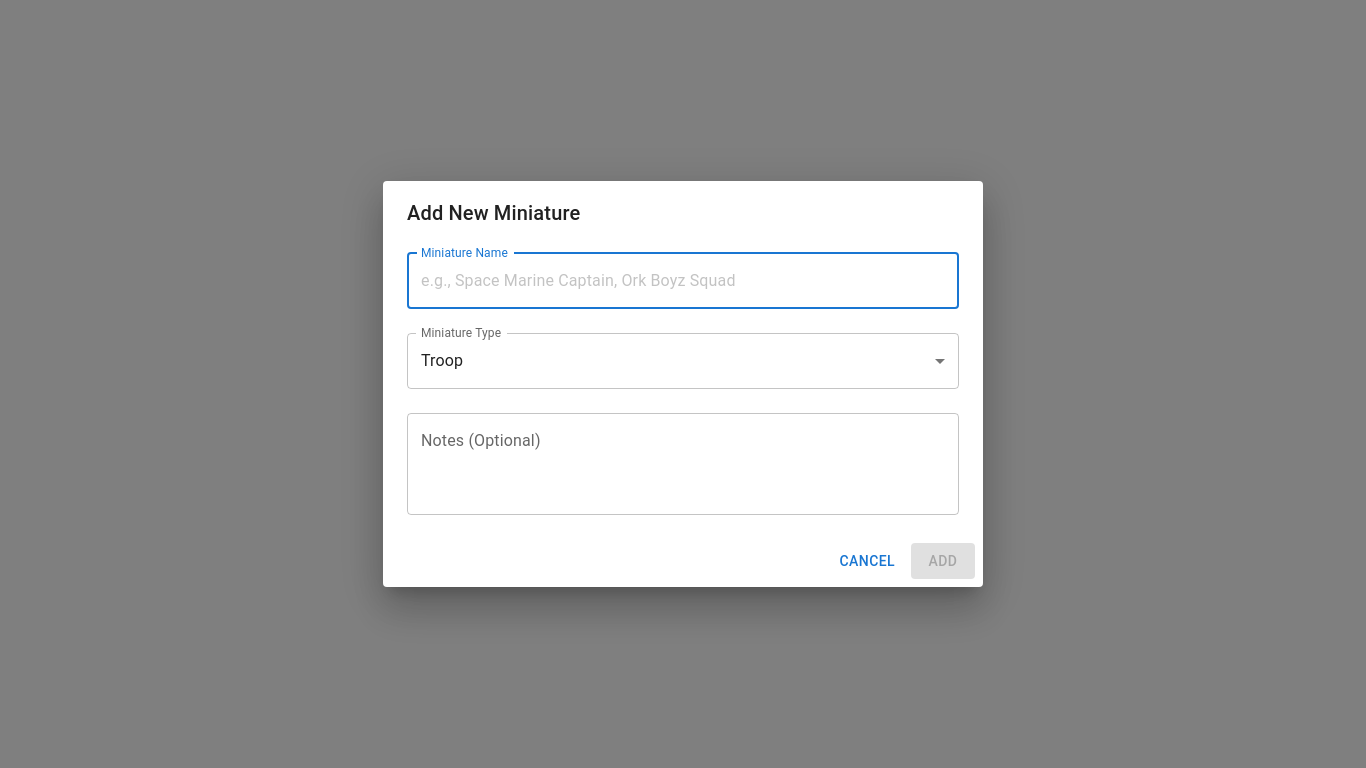
it: MiniatureForm › validates required fields
The width and height of the screenshot is (1366, 768).
// Clear the name field to trigger validation
Type "a" into the field labelled "Miniature Name" at [683, 281], box [407, 253, 959, 309]
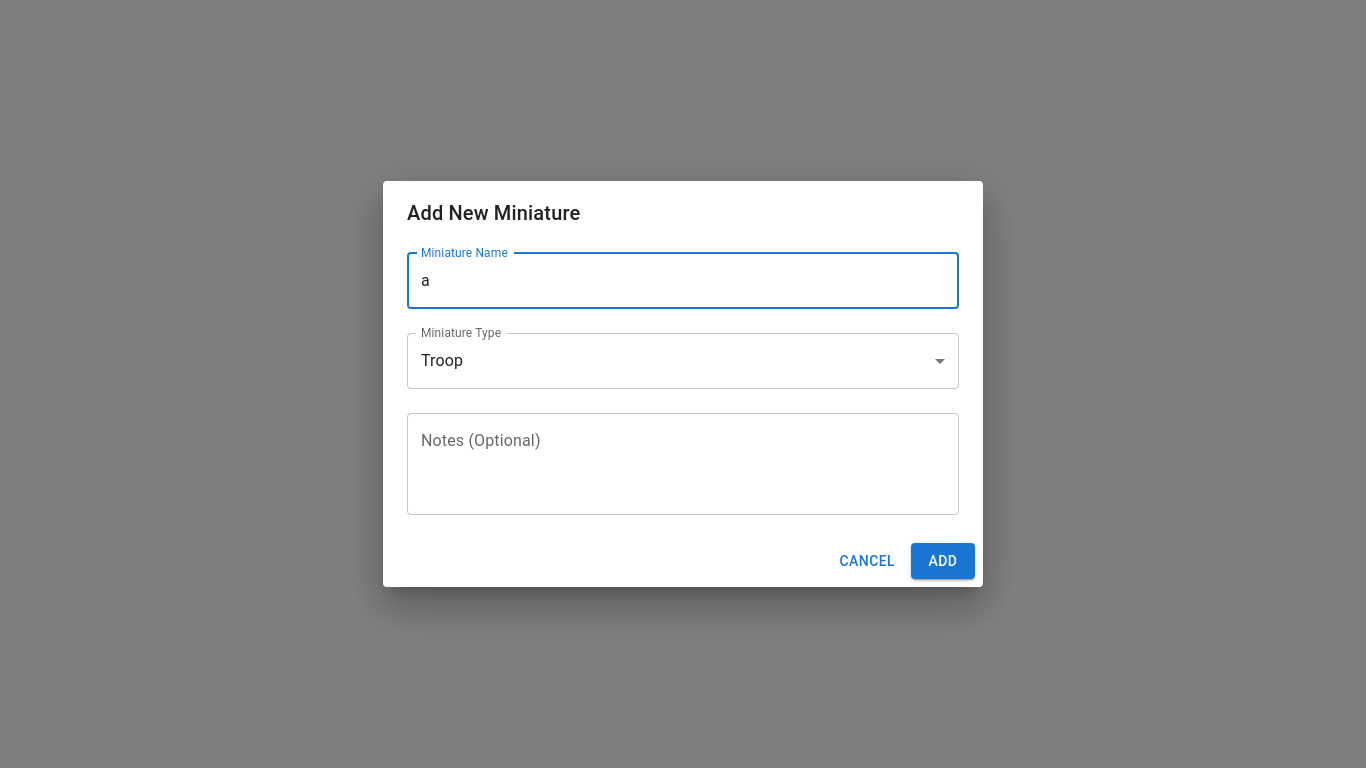
Clear the field labelled "Miniature Name" at [683, 281], box [407, 253, 959, 309]
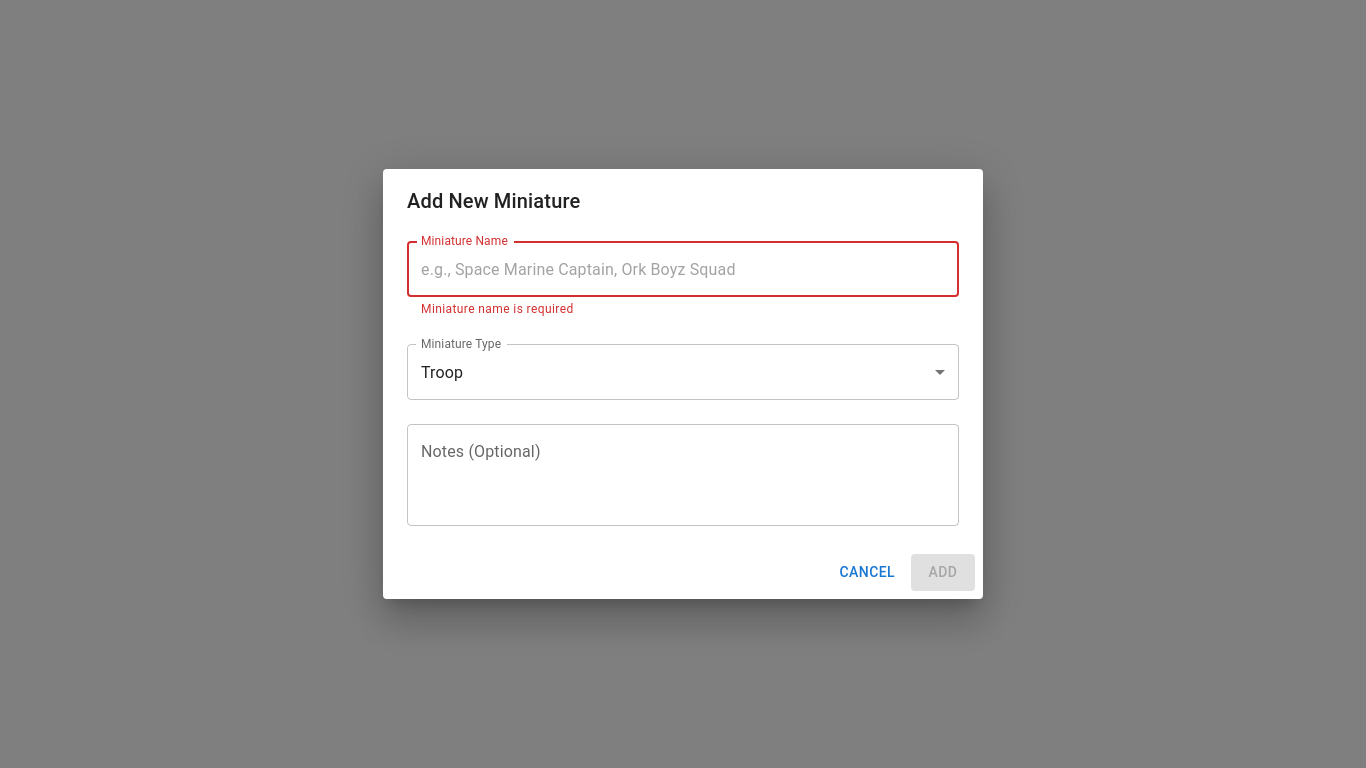
Expected: the text "Miniature name is required" is shown, [421, 302, 574, 316]
